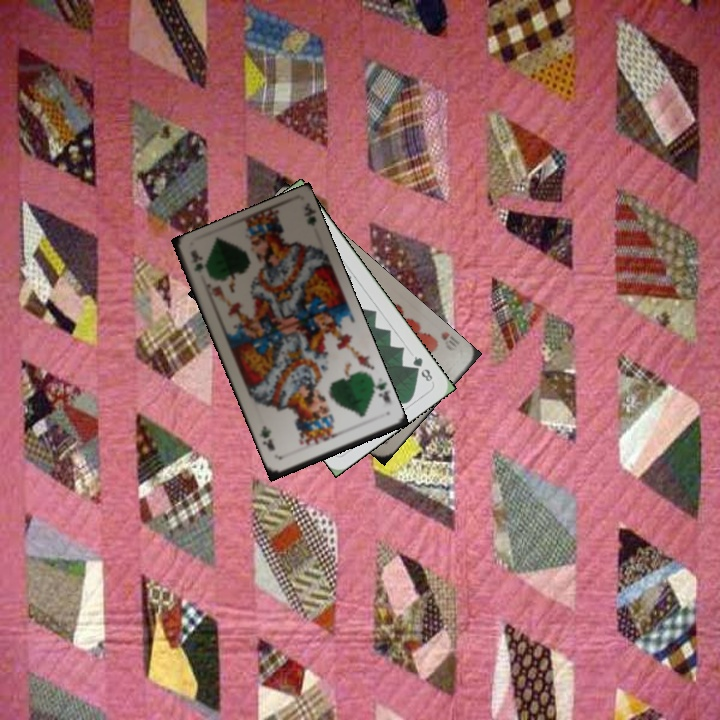G8: (408, 352, 436, 385)
GK: (368, 377, 393, 406), (188, 254, 206, 275)
H10: (436, 327, 460, 353)
